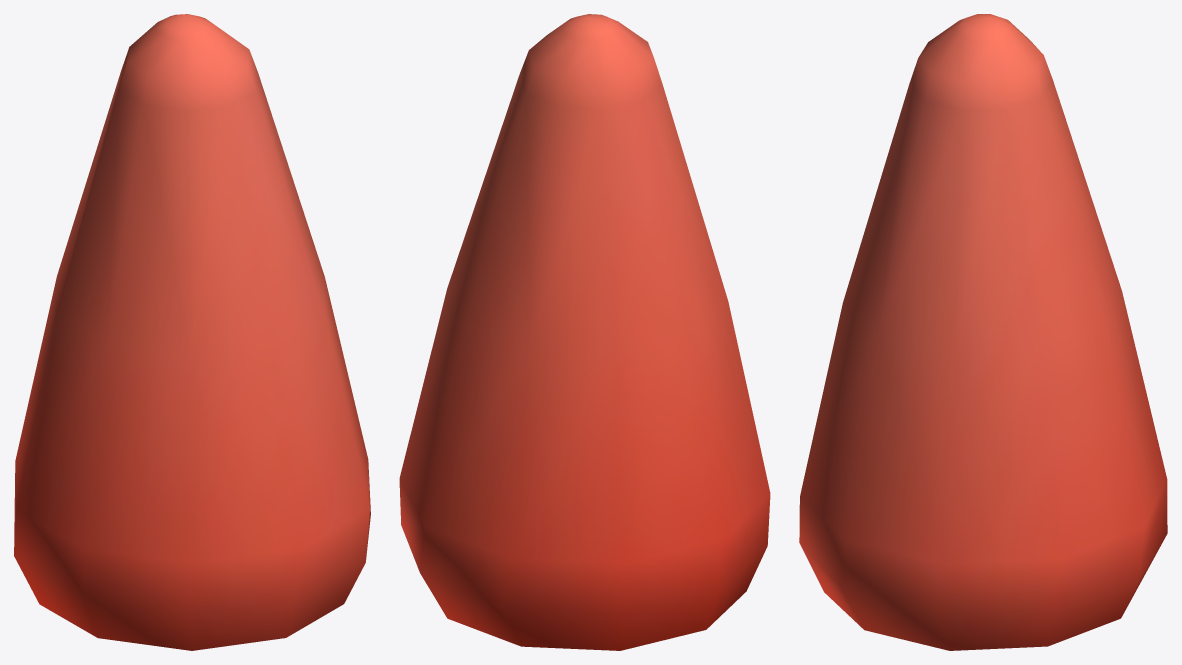
File: SM_Fir_07.fbx
The picture shows the model from 3 angles, left to right: view 1: azimuth 30°, elevation 25°; view 2: azimuth 150°, elevation 25°; view 3: azimuth 270°, elevation 25°; orthographic projection.
Visible parts, largest first — view 1: SM_Fir_07; view 2: SM_Fir_07; view 3: SM_Fir_07.
Boxes of the visible parts, x1,y1,x2,y2 form: SM_Fir_07: [14, 14, 370, 650]; SM_Fir_07: [399, 14, 770, 650]; SM_Fir_07: [799, 14, 1167, 650].
Size of the model in its own units: 230 by 396 by 234.
